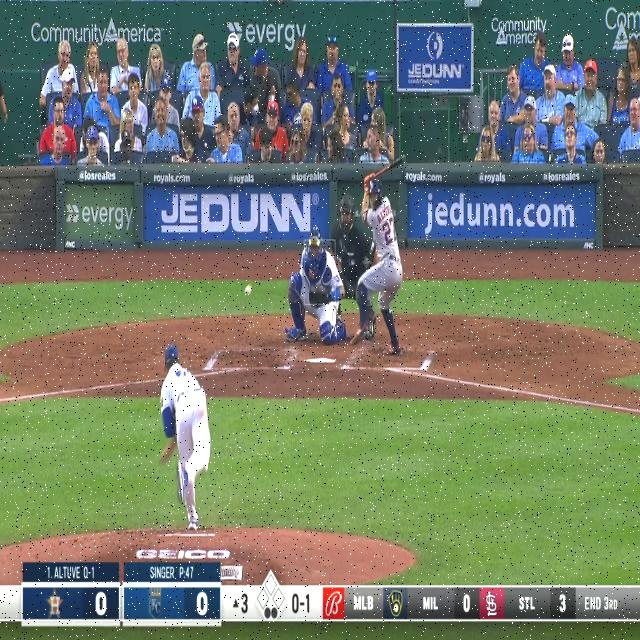baseball: (245, 284, 252, 296)
